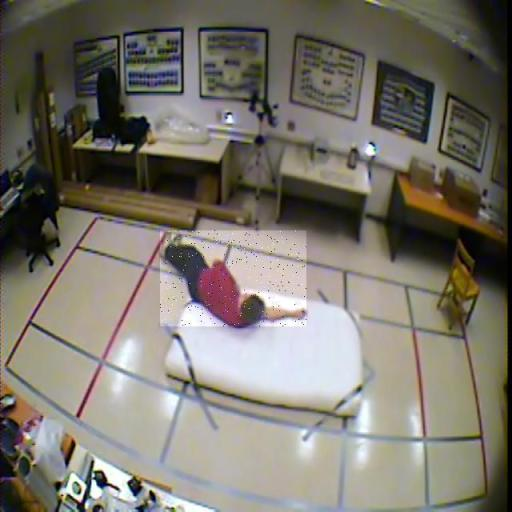Fall: (160, 231, 306, 327)
